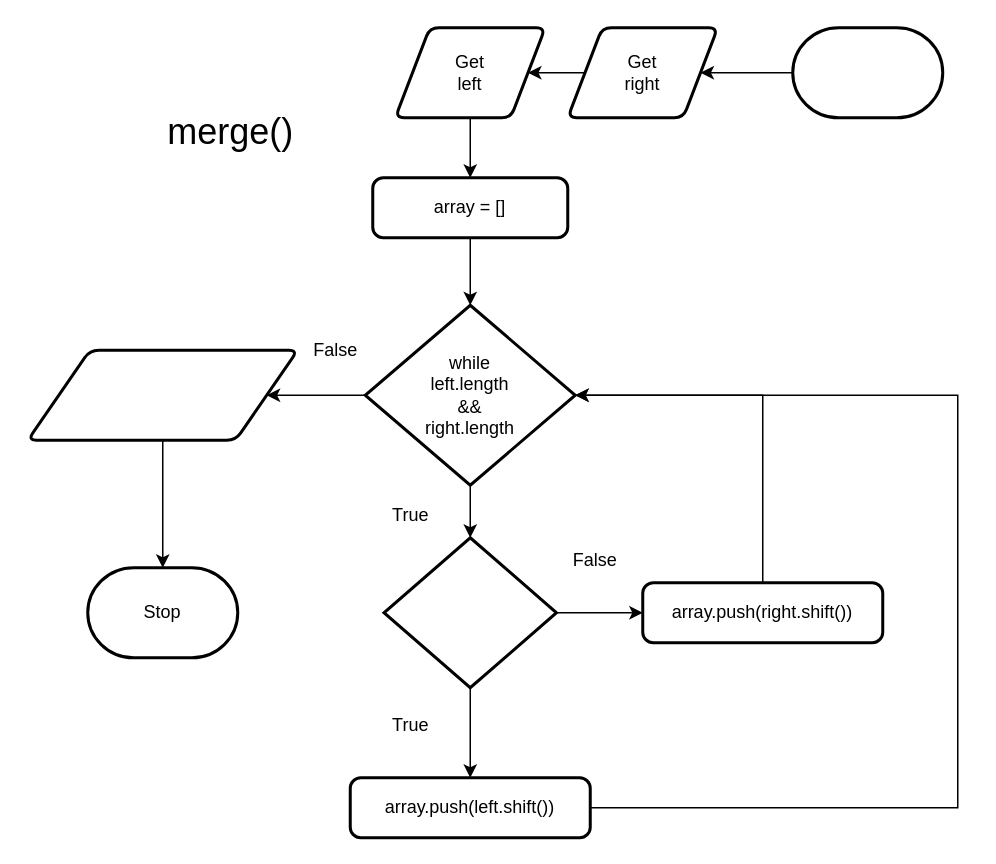
This 996x864 diagram has some shape labels left out. The shapes that lost their labels are listed below. From the top down, each one's centre as x and y in pixels, then its label:
At pixel 867 72: "Start".
At pixel 162 394: "return [...array, ...left, ...right]".
At pixel 469 612: "if left[0] < right [0]".
